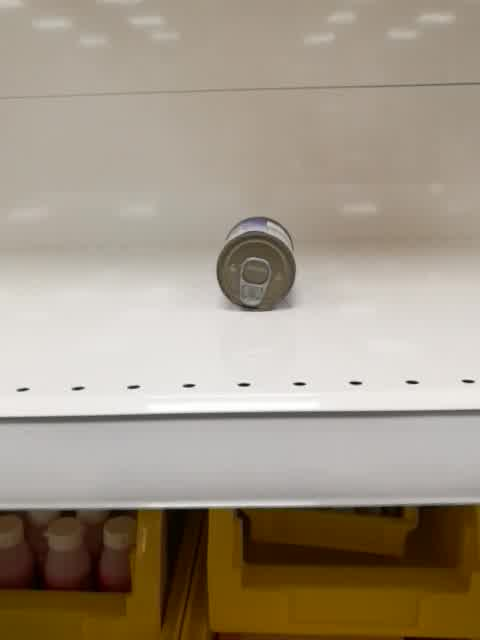sardine: (214, 215, 296, 311)
